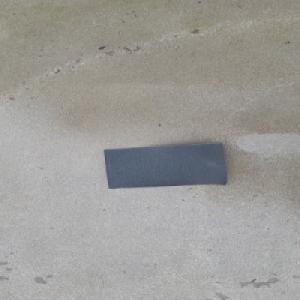PaintChip: (103, 142, 227, 189)
